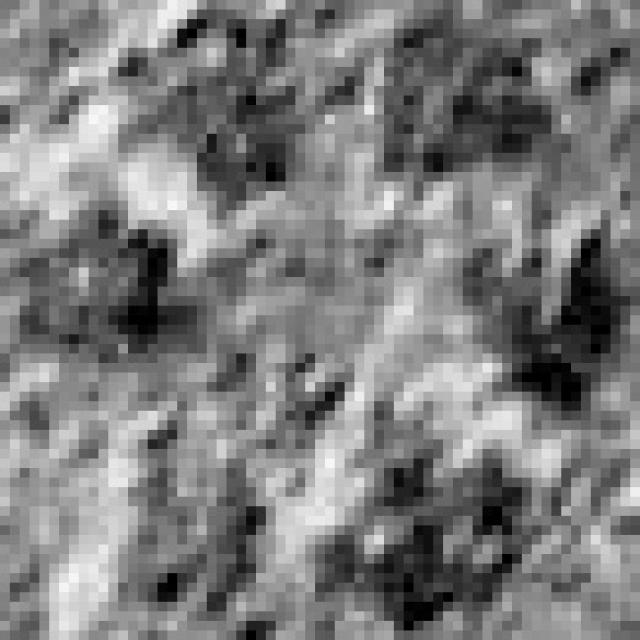inner: (174, 194, 439, 502)
lobe: (303, 402, 540, 638), (107, 6, 309, 227), (447, 223, 635, 438), (369, 14, 565, 203), (8, 201, 207, 368), (122, 422, 276, 627)
outer: (0, 0, 640, 640)
